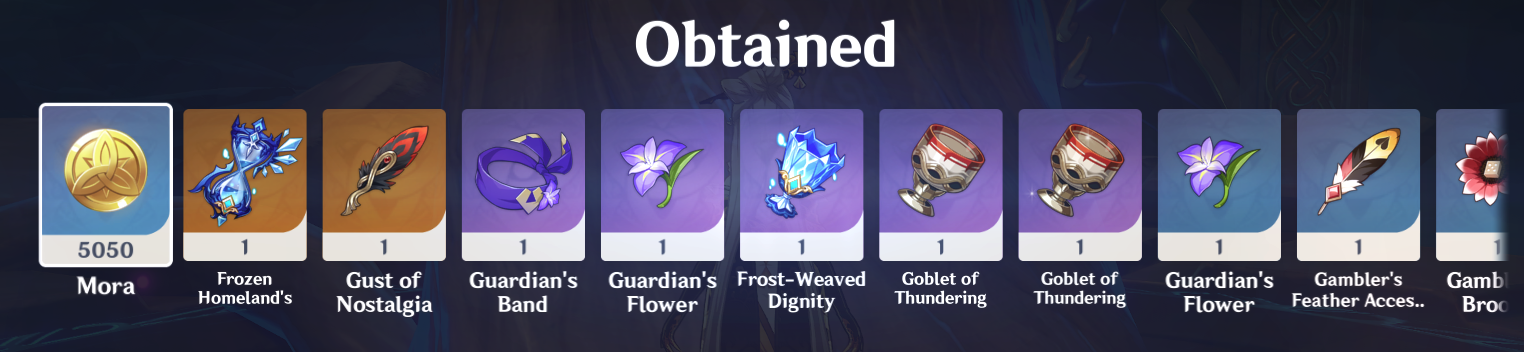3 star artifact: (1290, 102, 1428, 265), (1154, 102, 1287, 268)
4 star artifact: (454, 100, 596, 265), (316, 106, 457, 270), (731, 104, 870, 270), (596, 103, 731, 271), (176, 102, 312, 268), (1012, 106, 1150, 265), (877, 102, 1007, 265)
